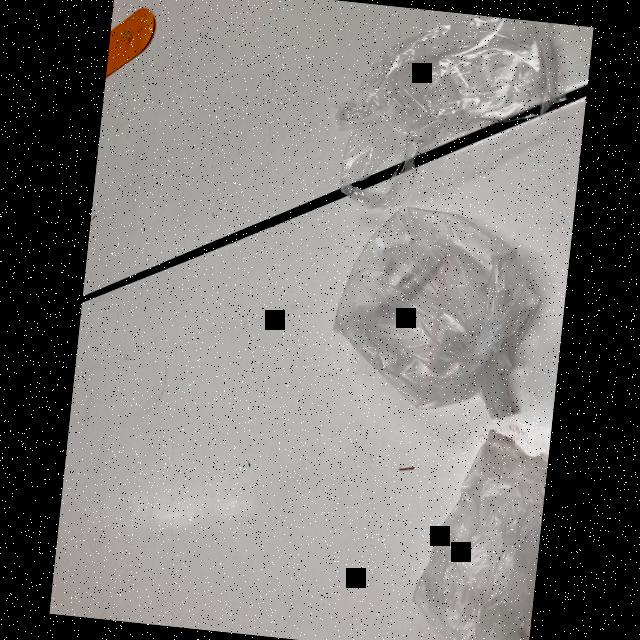plastic_bag: (312, 176, 555, 444), (314, 9, 566, 226)
scrap_plastic: (400, 409, 550, 640)
